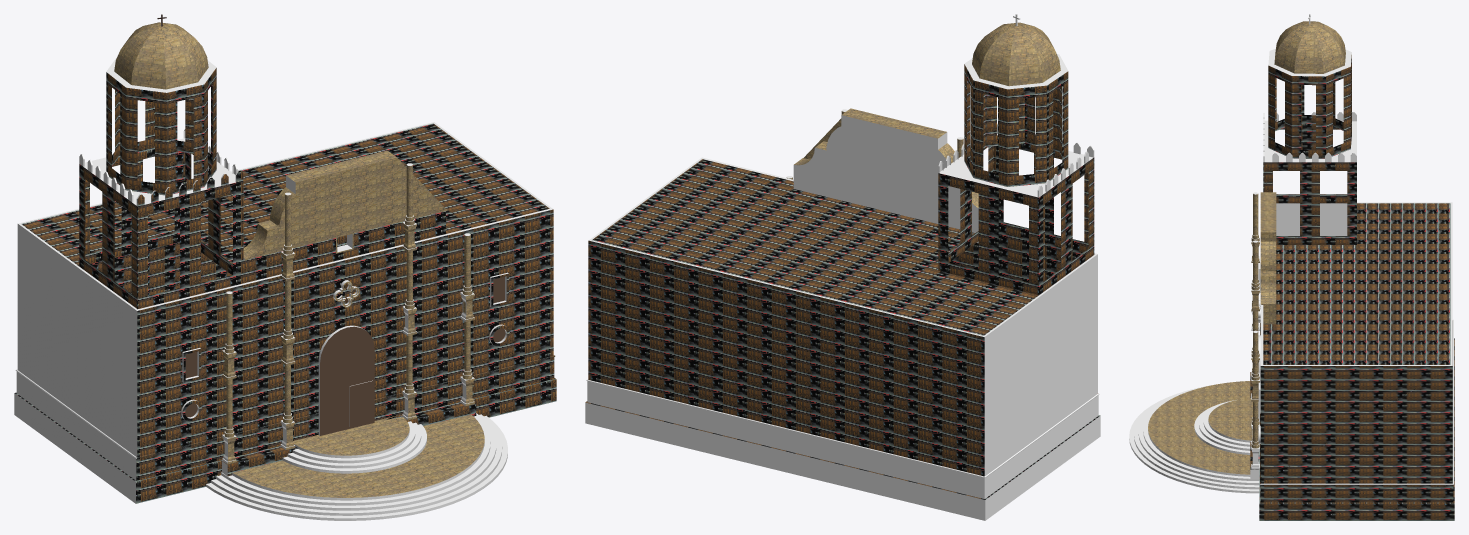
File: sto domingo guzman.fbx
The picture shows the model from 3 angles, left to right: view 1: azimuth 30°, elevation 25°; view 2: azimuth 150°, elevation 25°; view 3: azimuth 270°, elevation 25°; orthographic projection. The views are drawn at different scales.
Visible parts, largest first — view 1: Model, Group1; view 2: Model, Group1; view 3: Model, Group1.
Boxes of the visible parts, bbox=[...] form: Model: bbox=[15, 14, 555, 520]; Group1: bbox=[14, 357, 556, 503]; Model: bbox=[586, 14, 1099, 477]; Group1: bbox=[585, 381, 1100, 520]; Model: bbox=[1129, 14, 1453, 493]; Group1: bbox=[1250, 338, 1454, 520].
Size of the model in its own units: 3000 by 3085 by 2500.
